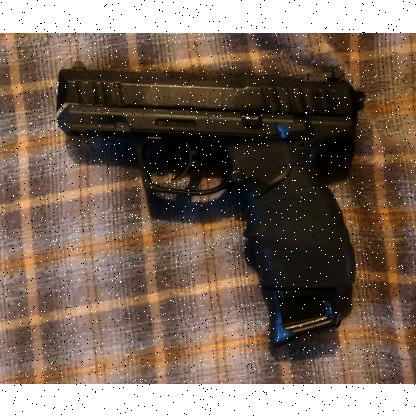gun: (58, 60, 366, 348)
